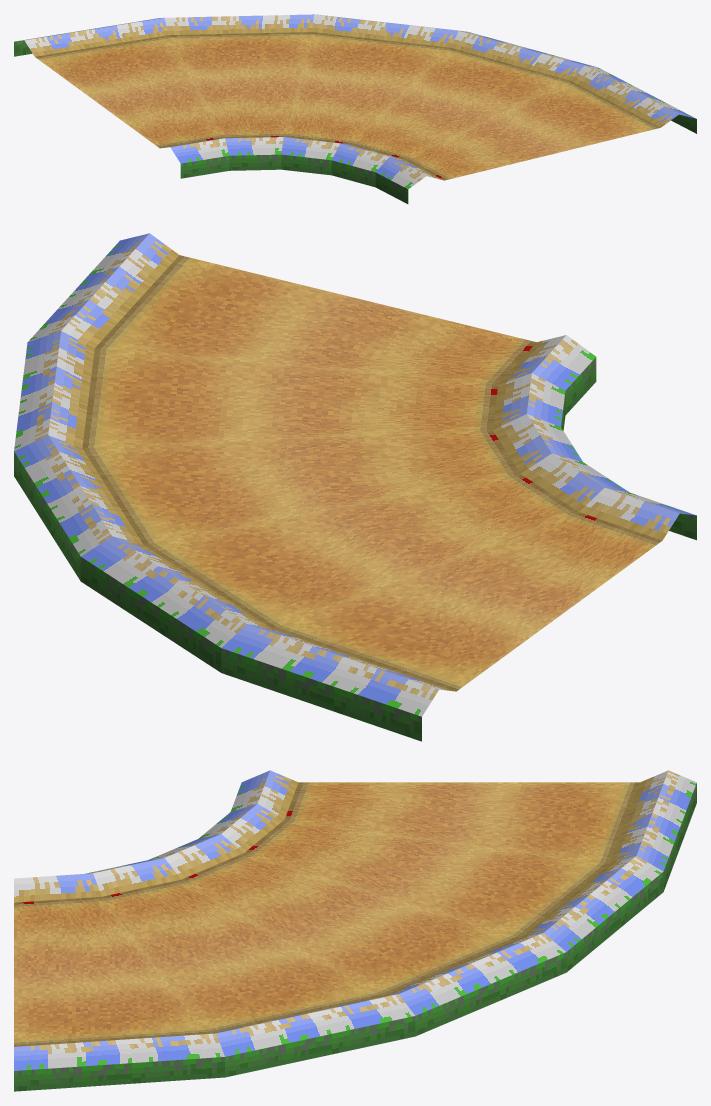
Rendered from SandCurve.glb.
3 renders of one model, top to bottom at view 1: azimuth 30°, elevation 25°; view 2: azimuth 150°, elevation 25°; view 3: azimuth 270°, elevation 25°, orthographic. The views are drawn at different scales.
Parts seen in each view (by area): view 1: SandCurve; view 2: SandCurve; view 3: SandCurve.
Boxes of the visible parts, x1,y1,x2,y2 form: SandCurve: [14, 14, 696, 203]; SandCurve: [14, 233, 696, 741]; SandCurve: [14, 770, 696, 1091].
Bounding box in the file's own units: 0.75 × 0.0396 × 0.75.
Materials: 1 (1 with a texture image).
